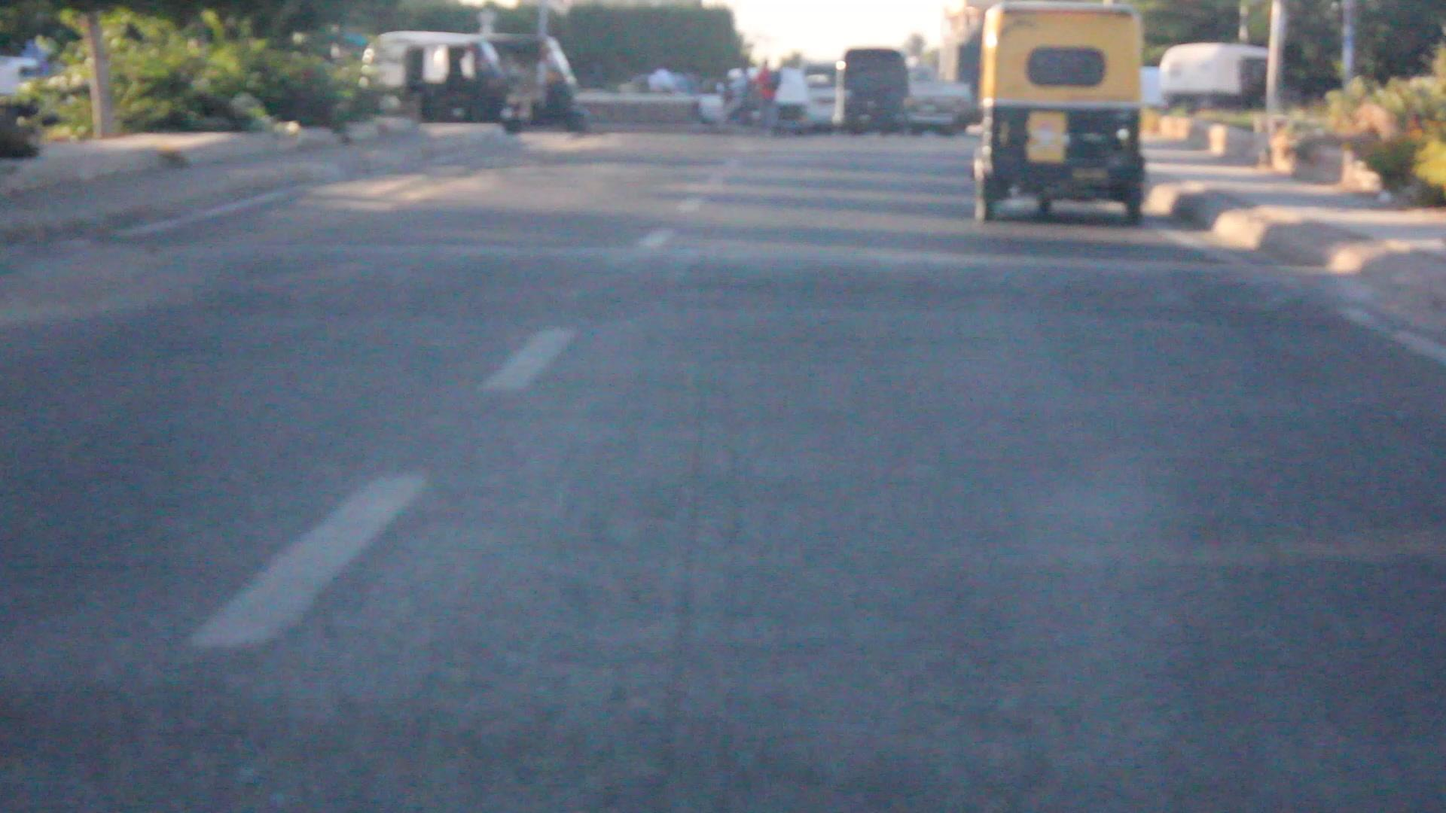Bump: (0, 229, 1408, 332)
